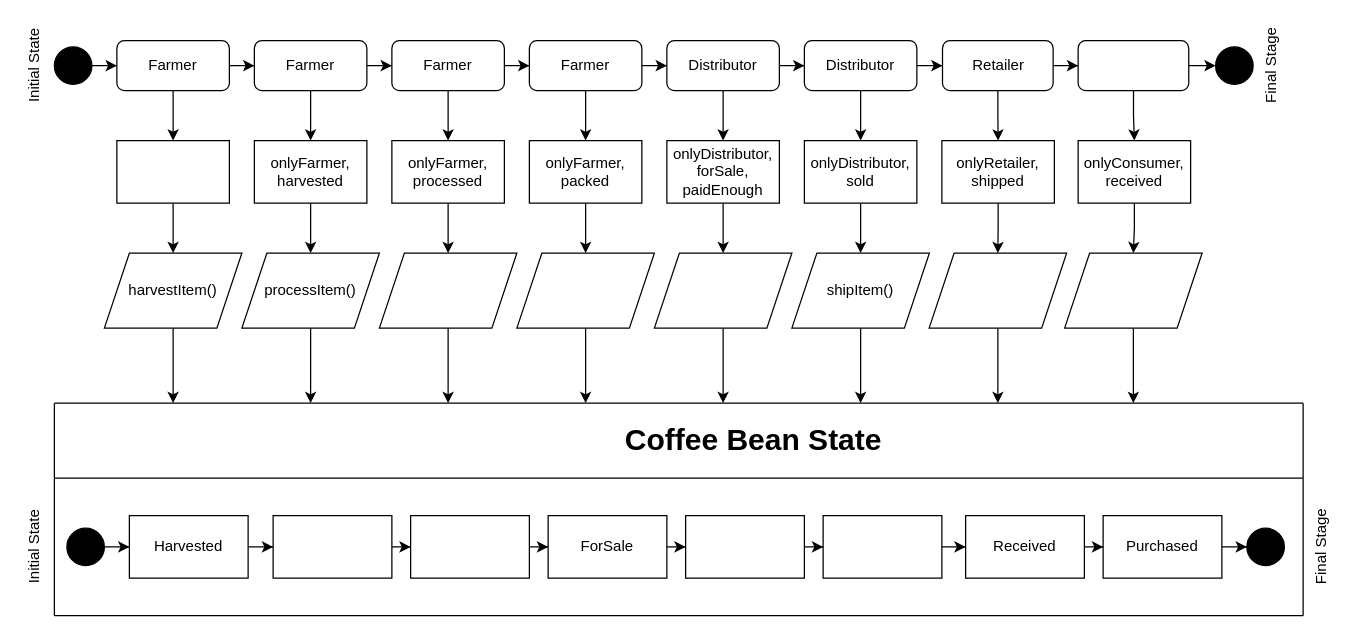
This 1355x639 diagram has some shape labels left out. The shapes that lost their labels are listed below. From the top down, each one's box as (x1, y1, x2, y2) in pixels, then its label:
(1077, 39, 1189, 91): Consumer
(116, 139, 229, 203): onlyFarmer
(378, 252, 517, 328): packItem()
(516, 252, 654, 328): sellItem()
(653, 252, 792, 328): buyItem()
(928, 252, 1067, 328): receiveItem()
(1063, 252, 1202, 328): purchaseItem()
(272, 514, 392, 578): Processed
(409, 514, 529, 578): Packed
(684, 514, 804, 578): Sold
(822, 514, 942, 578): Shipped
